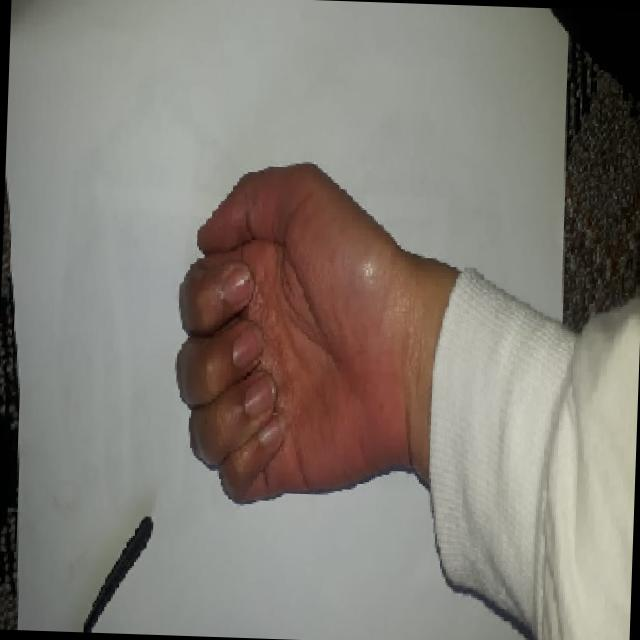Nail: (242, 374, 276, 416), (232, 325, 264, 368), (221, 267, 252, 301), (258, 415, 285, 444)
